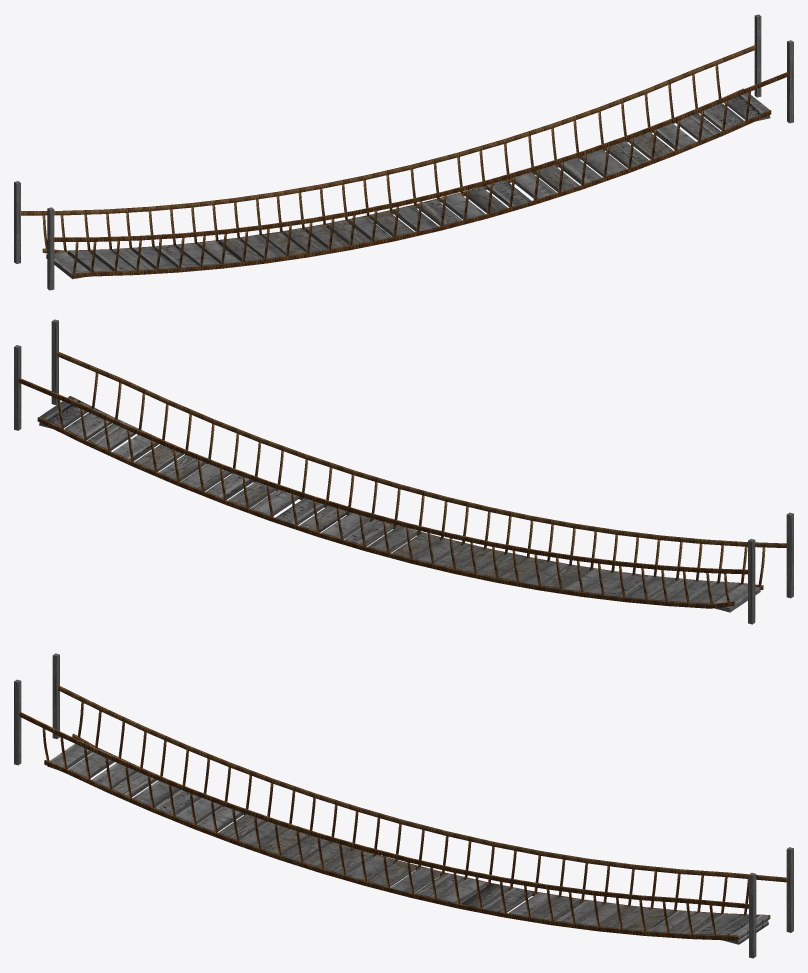
File: bridge.obj
3 views of the same model, one above another, from view 1: azimuth 30°, elevation 25°; view 2: azimuth 150°, elevation 25°; view 3: azimuth 330°, elevation 25° (orthographic). The views are drawn at different scales.
Visible parts, largest first — view 1: bridge; view 2: bridge; view 3: bridge.
Boxes of the visible parts, bbox=[...] form: bridge: bbox=[14, 14, 793, 290]; bridge: bbox=[14, 319, 793, 624]; bridge: bbox=[14, 653, 793, 958].
Size of the model in its own units: 312 by 45.87 by 38.28.
1 material, 1 textured.
